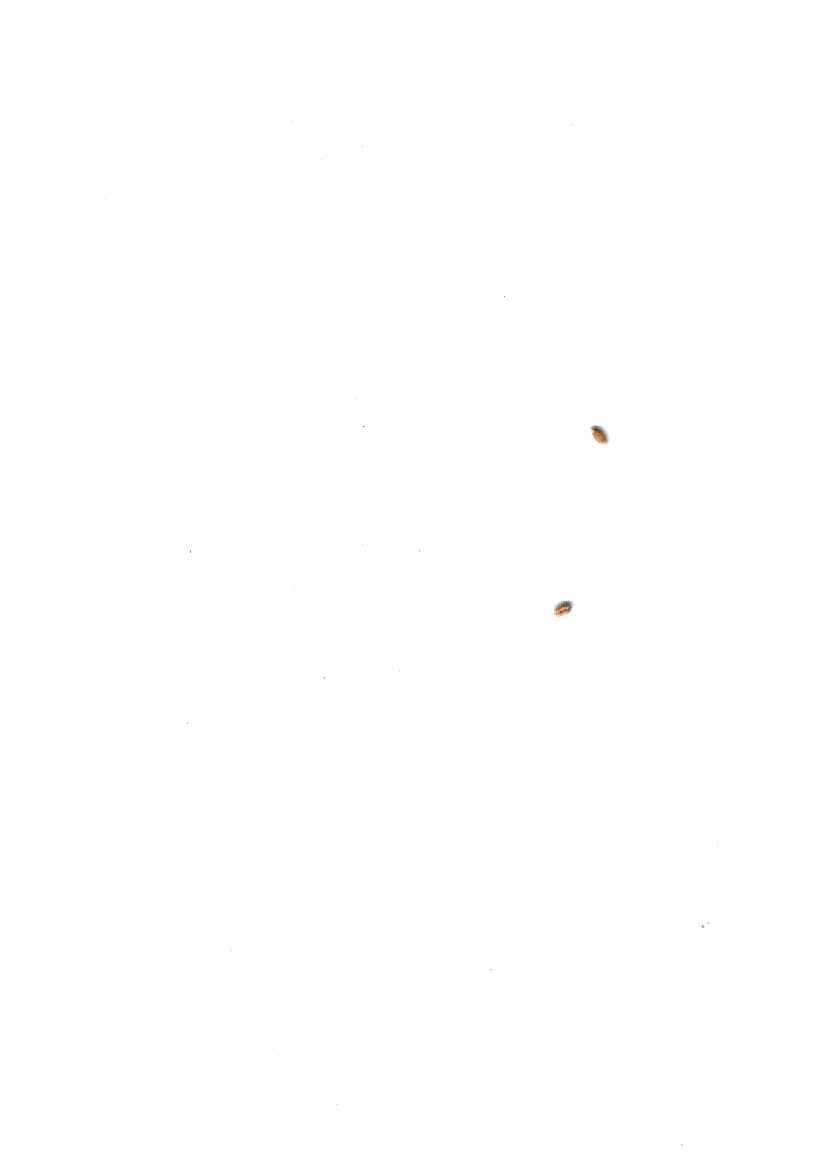grains: (583, 412, 614, 464), (546, 590, 579, 627)
